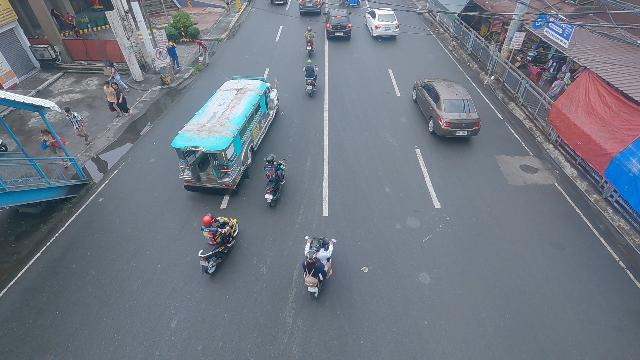car: (412, 76, 483, 141), (364, 6, 400, 38), (323, 7, 352, 41), (298, 0, 321, 15)
jeepney: (170, 73, 282, 192)
motorcycle: (193, 213, 240, 278), (300, 233, 336, 301), (261, 155, 288, 209), (301, 62, 319, 97), (302, 29, 317, 59)
